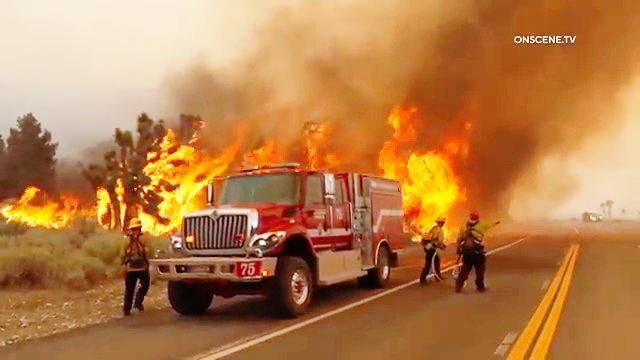fire: (93, 116, 223, 245), (381, 122, 471, 228), (265, 119, 357, 169), (3, 187, 96, 233)
smoke: (476, 44, 640, 143)
